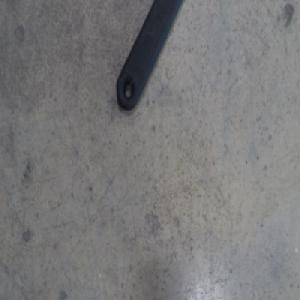AdjustableWrench: (117, 0, 178, 109)
